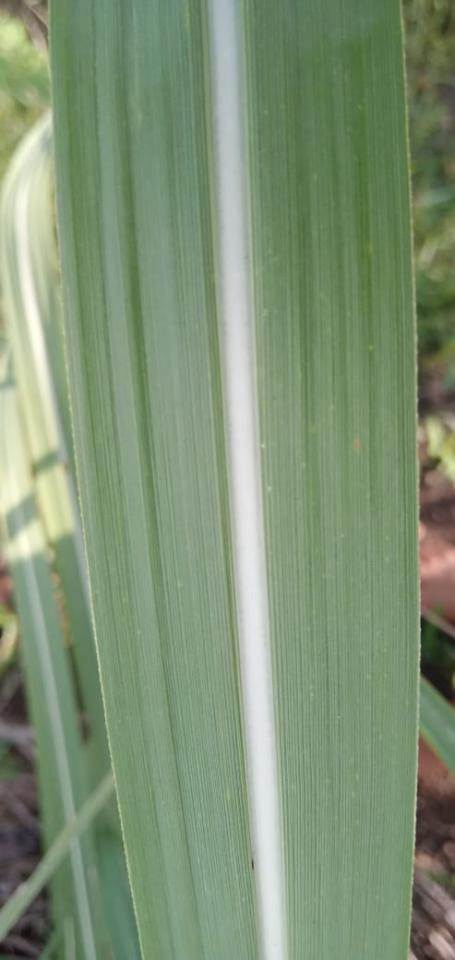Healthy: (52, 0, 418, 959)
